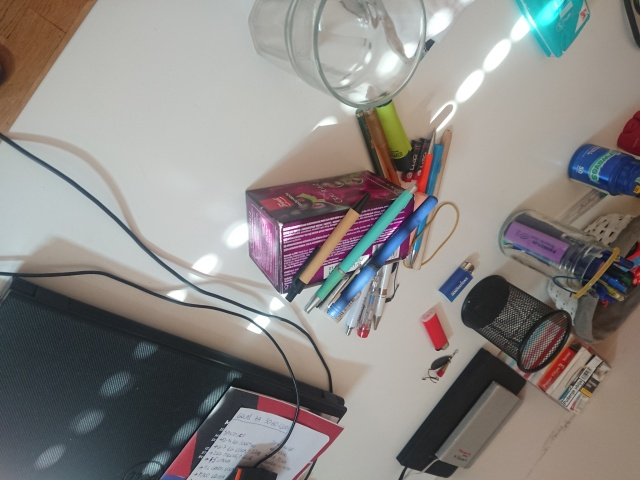Franck Black Currant Tea 60g: (243, 168, 417, 295)
